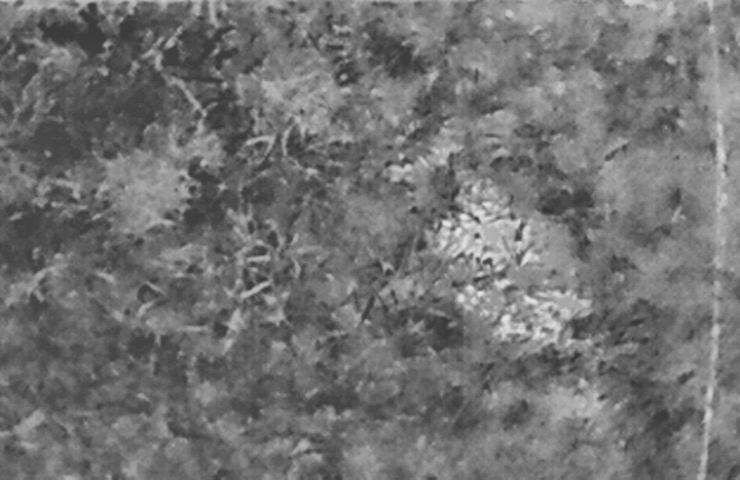landmines: (430, 197, 547, 277)
